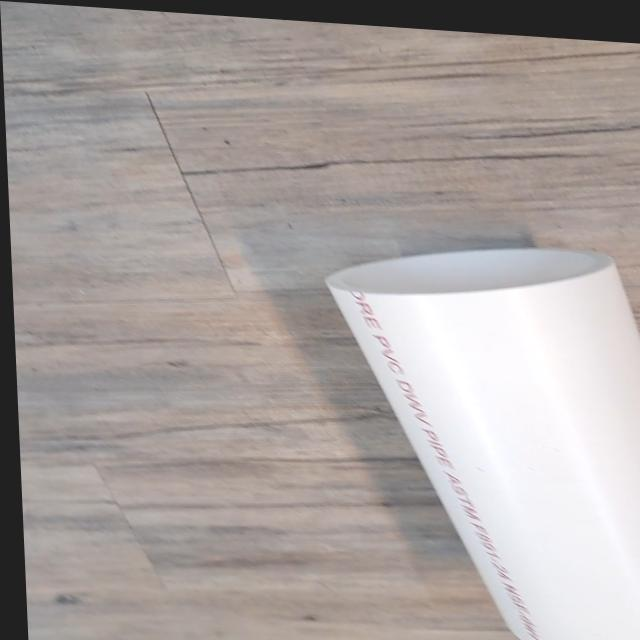CORAL: (278, 209, 640, 640)
